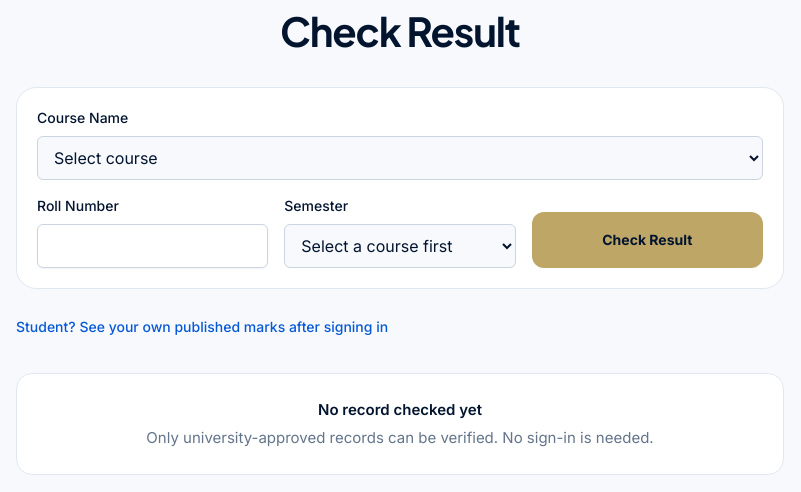
Test case: Check Result announces malformed roll numbers without sending them
The image size is (801, 492).
Select "Synthetic Diploma" in the dropdown labelled "Course Name": (400, 158) x1=37 y1=136 x2=763 y2=180
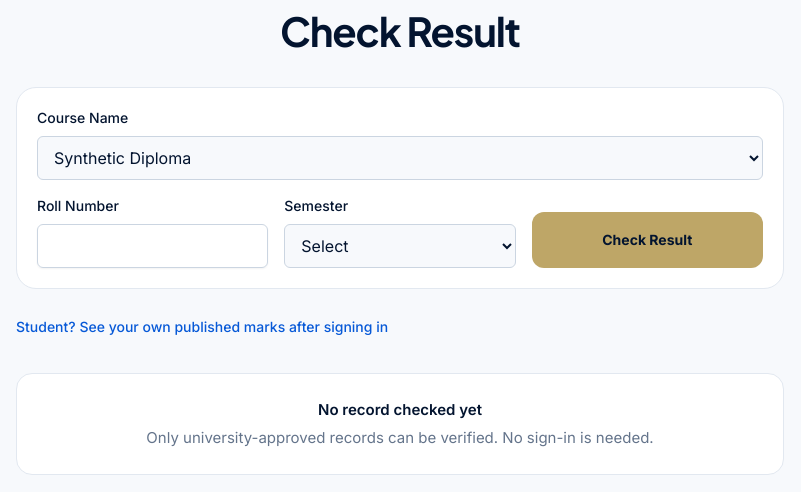
In the field labelled "Roll Number": (153, 246) x1=37 y1=224 x2=268 y2=268, type "INVALID ROLL"
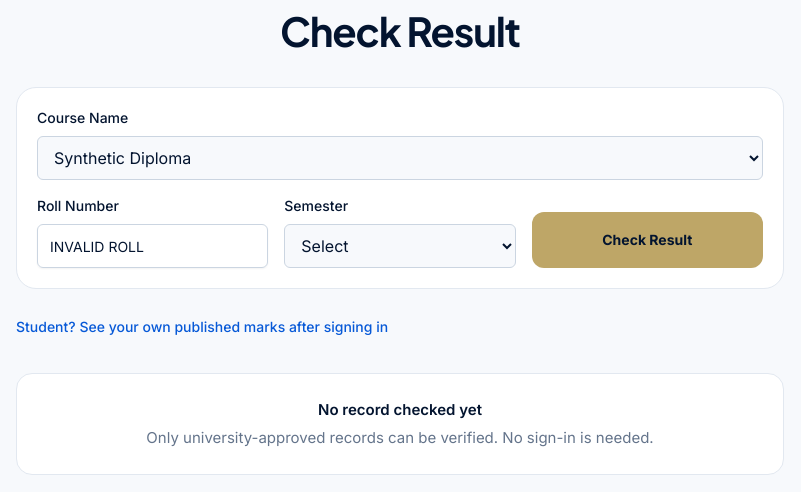
Select "Semester 1" in the dropdown labelled "Semester": (400, 246) x1=284 y1=224 x2=516 y2=268
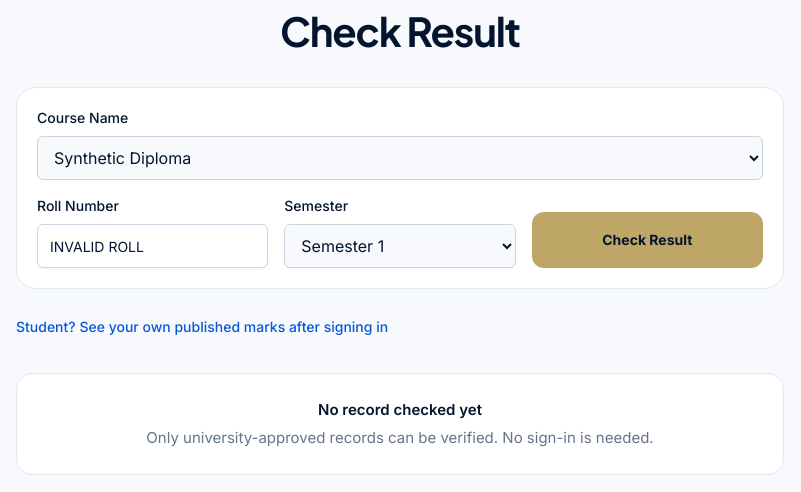
Click the button "Check Result": (647, 240) x1=532 y1=212 x2=763 y2=268
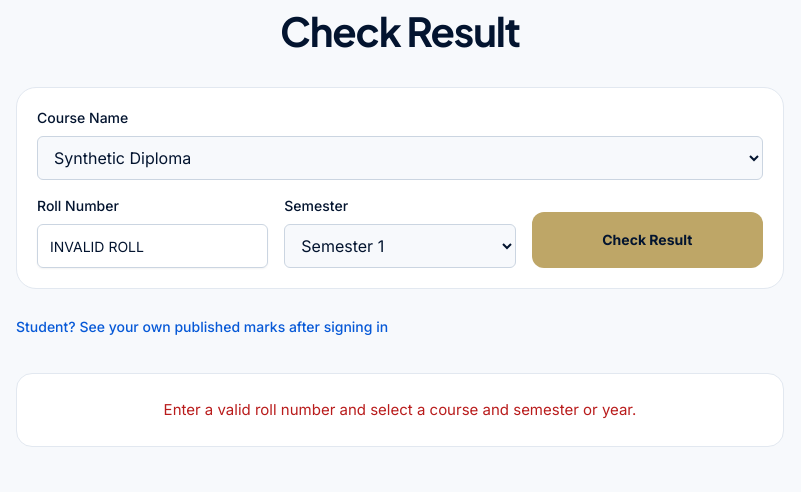
Expected: the message does not show "INVALID ROLL", x1=16 y1=373 x2=784 y2=447
Result: the message shows "Enter a valid roll number" at x1=164 y1=400 x2=636 y2=419
